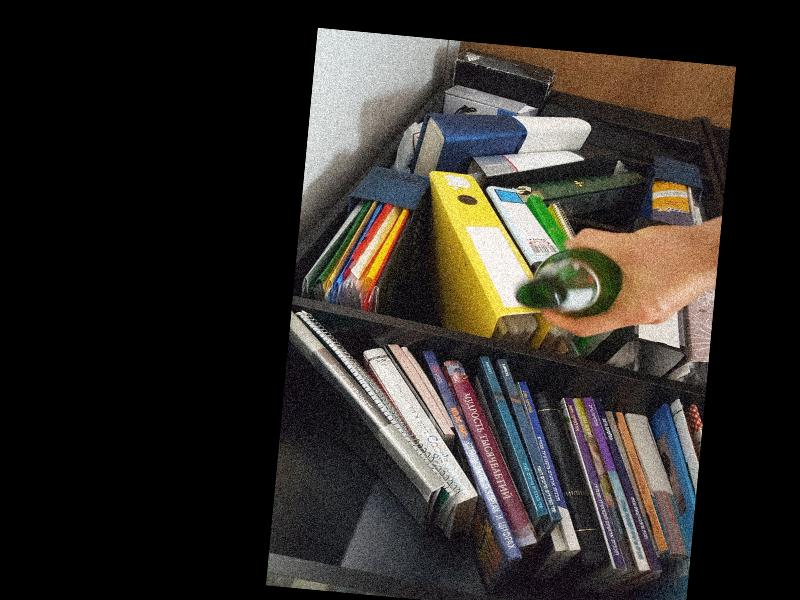Beer: (514, 242, 625, 320)
